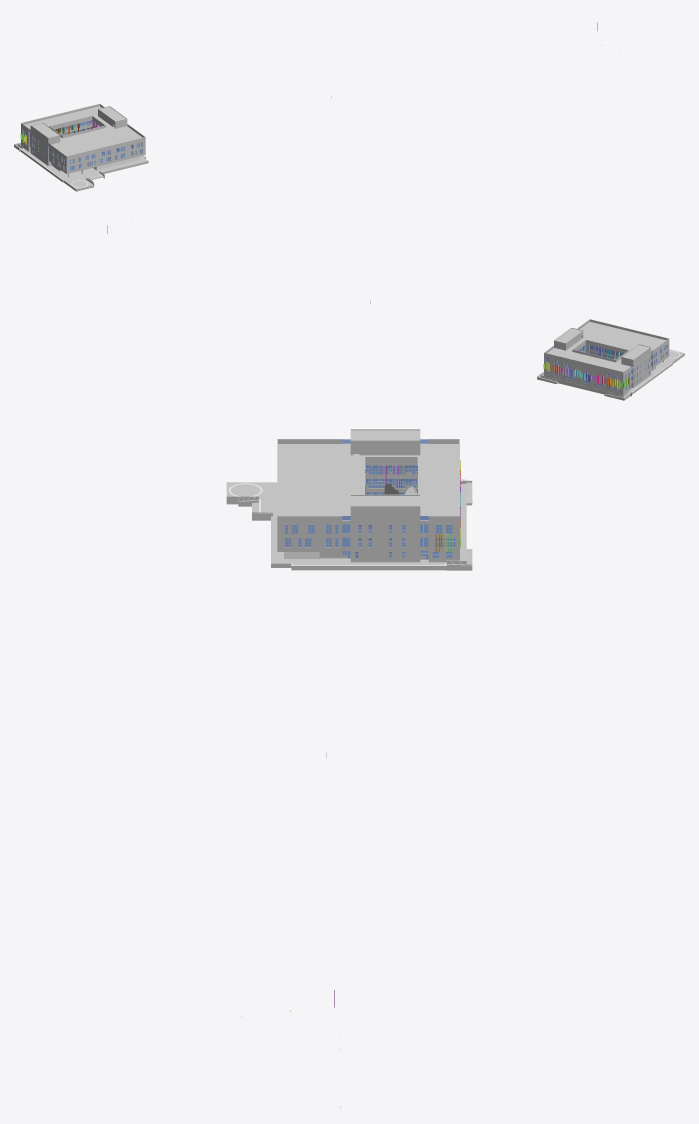
File: et20optimizada.glb
3 renders of one model, top to bottom at view 1: azimuth 30°, elevation 25°; view 2: azimuth 150°, elevation 25°; view 3: azimuth 270°, elevation 25°, orthographic. The views are drawn at different scales.
Visible parts, largest first — view 1: G-Object.9700; view 2: G-Object.9700; view 3: G-Object.9700.
Boxes of the visible parts, box(x1,y1,x2,y2) form: G-Object.9700: box(14, 22, 601, 191); G-Object.9700: box(107, 222, 684, 400); G-Object.9700: box(226, 429, 472, 1107).
Size of the model in its own units: 444 by 20.46 by 73.15.
Materials: 133 (12 with a texture image).
